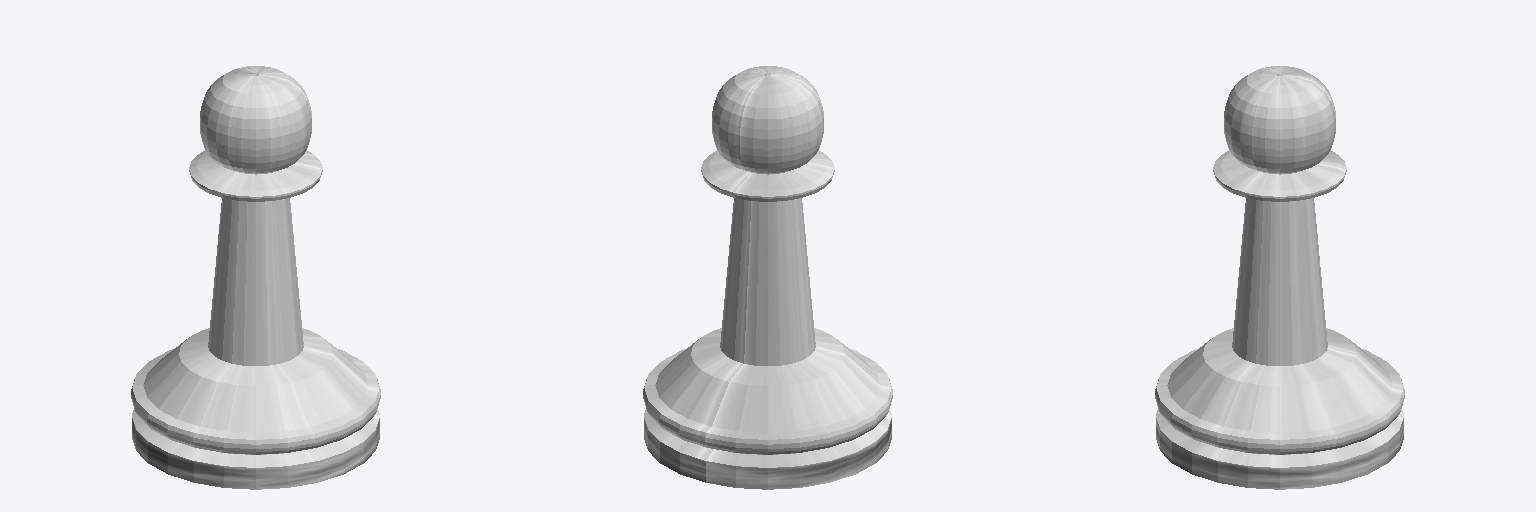
3 renders of one model, left to right at view 1: azimuth 30°, elevation 25°; view 2: azimuth 150°, elevation 25°; view 3: azimuth 270°, elevation 25°, orthographic.
Visible parts, largest first — view 1: Pawn_Cylinder.008; view 2: Pawn_Cylinder.008; view 3: Pawn_Cylinder.008.
Part boxes in pixels (x1,y1,x2,y2): Pawn_Cylinder.008: (131, 66, 380, 489); Pawn_Cylinder.008: (643, 66, 892, 489); Pawn_Cylinder.008: (1155, 66, 1404, 489).
Bounding box in the file's own units: 1.51 × 2.42 × 1.51.
1 materials, 1 textured.